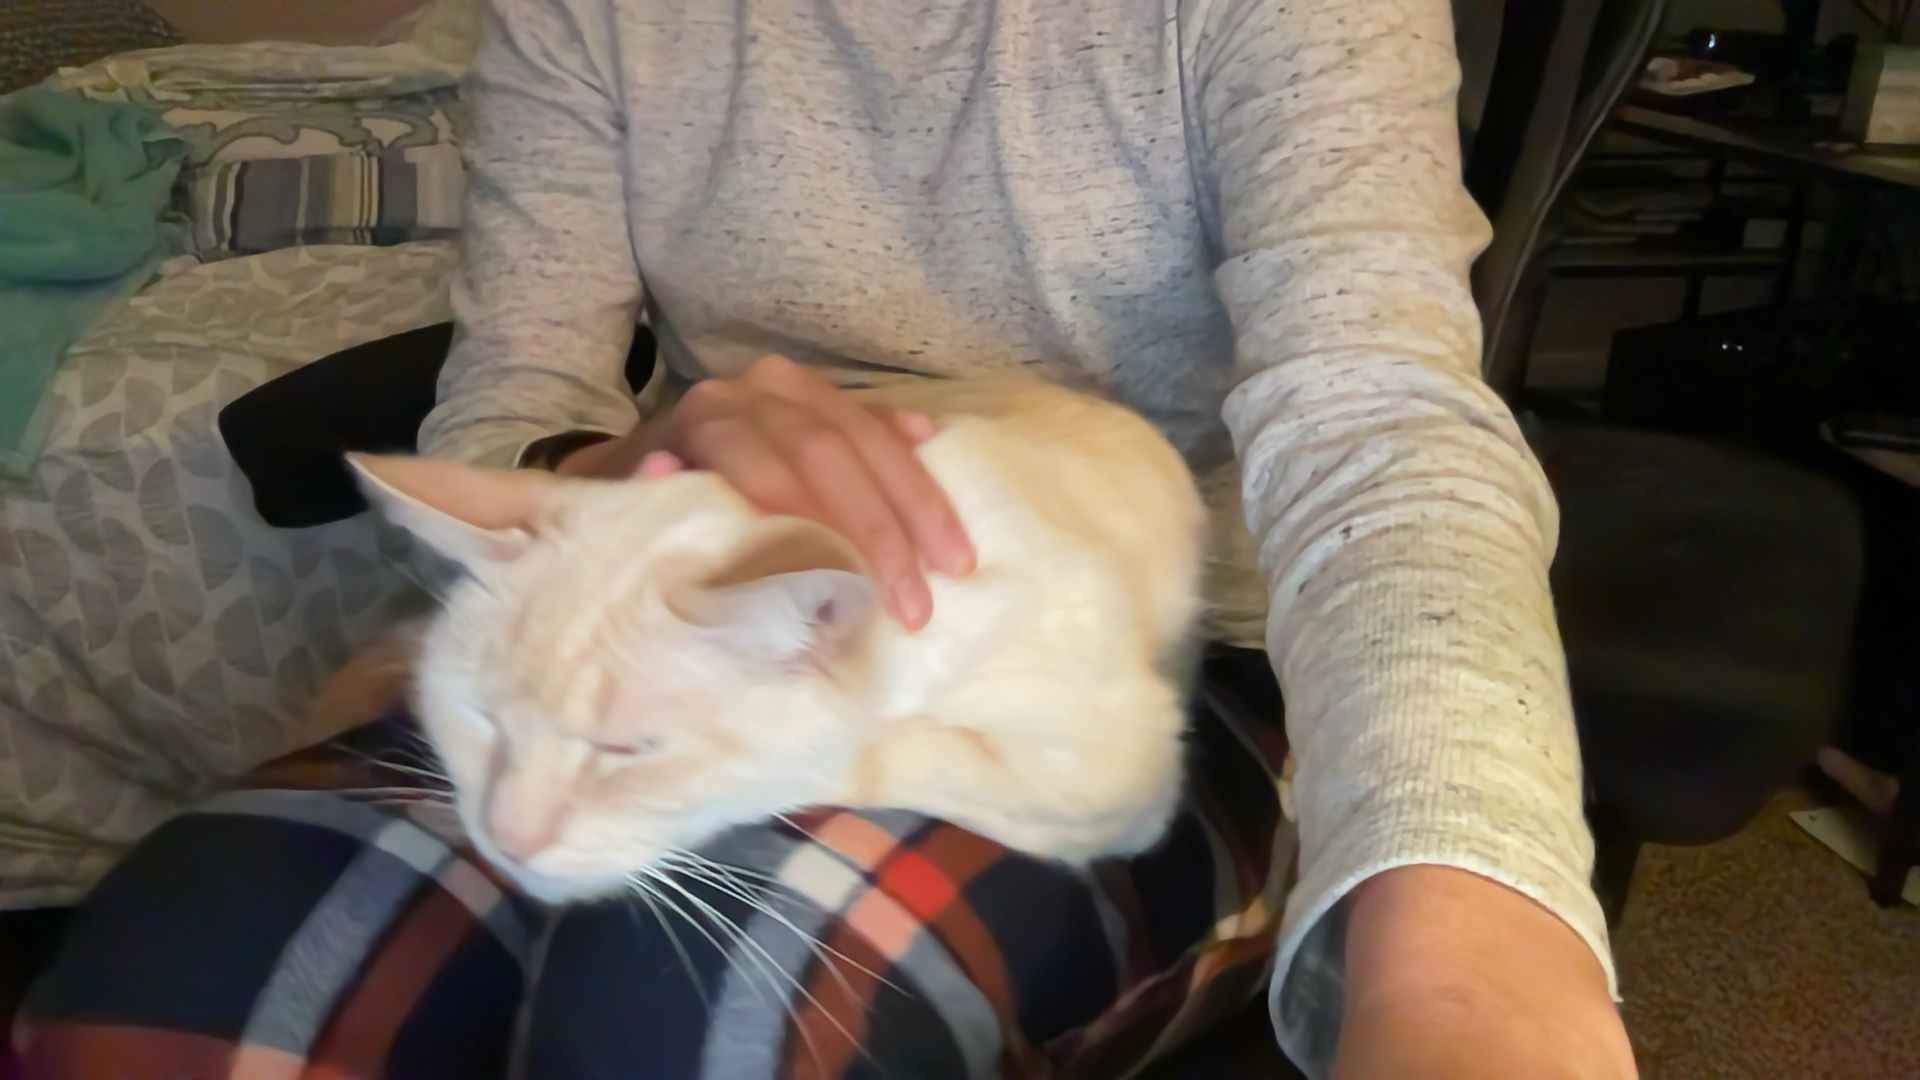cat: (357, 375, 1207, 907)
